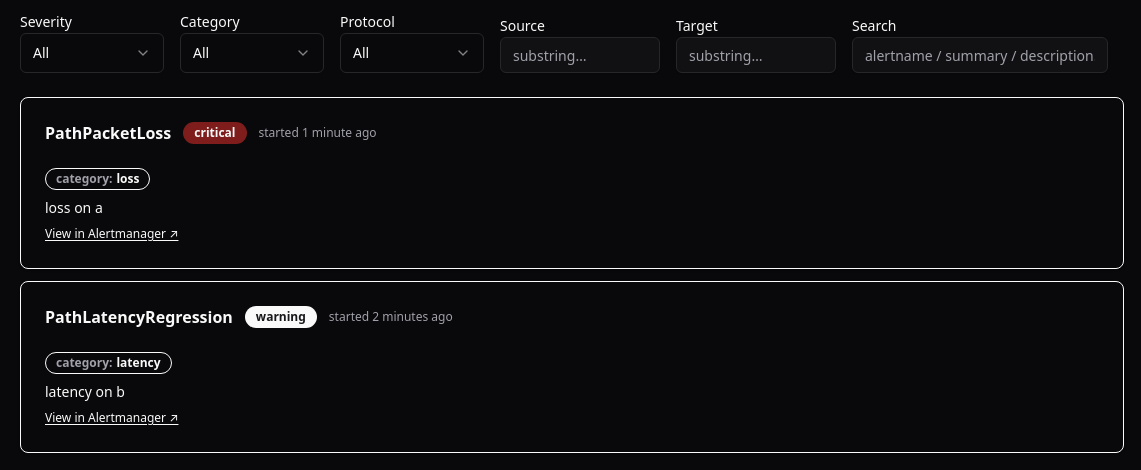
Test: Alerts page › renders rows and filters by severity
Check: the heading "PathPacketLoss" is shown, box [45,125,171,141]
Check: the heading "PathLatencyRegression" is shown, box [45,309,233,325]
Click the dropdown named "severity" at (92, 53), box [20,33,164,73]
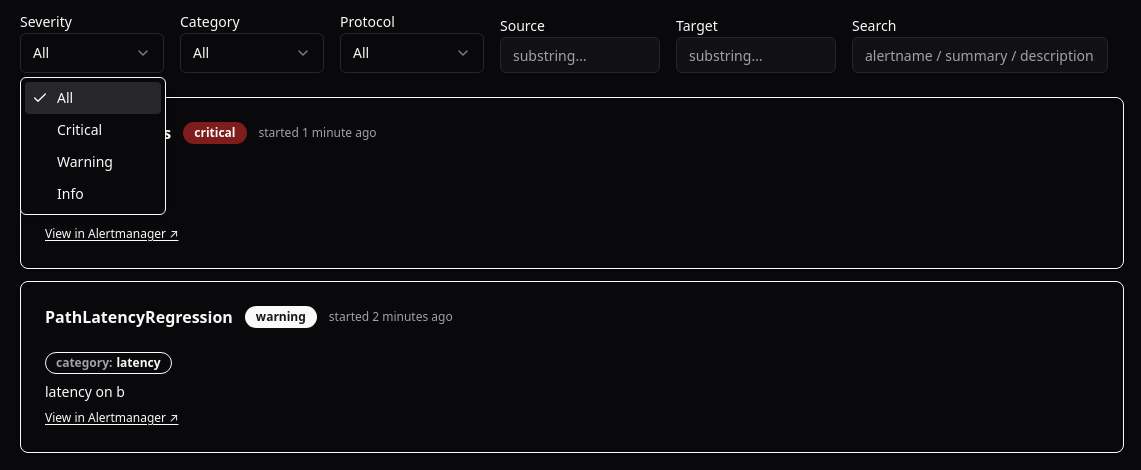
Click the option "Critical" at (80, 130), box [57,120,102,139]
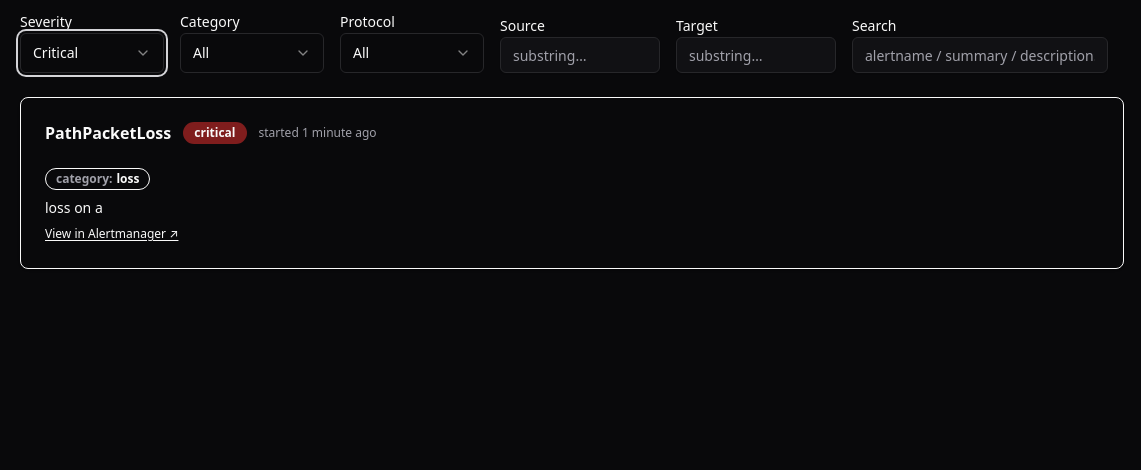
Check: the heading "PathPacketLoss" is shown, box [45,125,171,141]
Check: the heading "PathLatencyRegression" is gone
